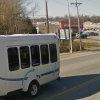Bus: (3, 28, 63, 96)
